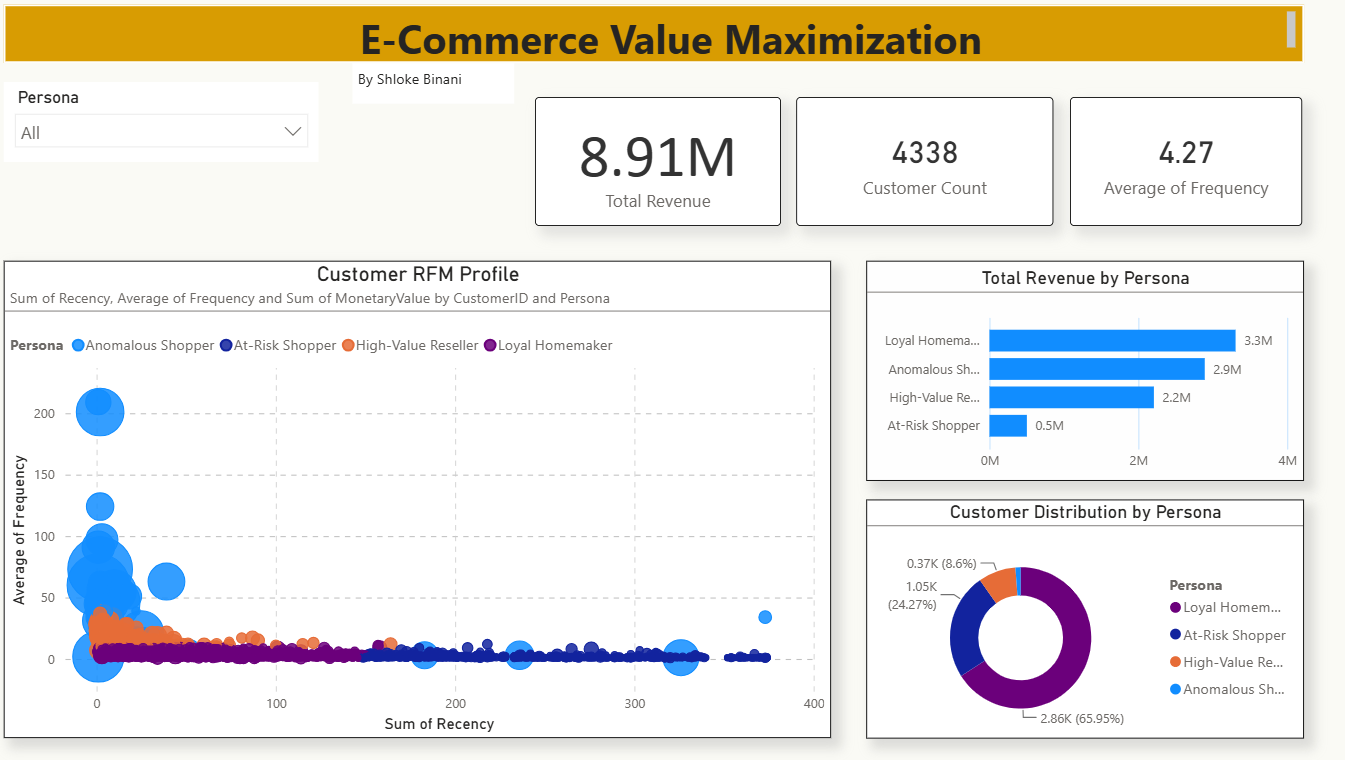

The page's visual inventory and layout, read from the dashboard file:
{"tool":"powerbi","page":{"name":"Page 1","canvas":[1280,720],"ordinal":0},"visuals":[{"type":"card","fields":{"Values":["Key Measures.Total Revenue"]},"box":[525.4,102.4,229.1,119.8],"z":0},{"type":"card","fields":{"Values":["Key Measures.Customer Count"]},"box":[769,102.4,239.5,119.8],"z":1000},{"type":"card","fields":{"Values":["Avg(customer_segments_final.Frequency)"]},"box":[1023.1,102.4,216.3,119.8],"z":2000},{"type":"barChart","title":"Total Revenue by Persona","fields":{"Category":["customer_segments_final.Persona"],"Y":["Sum(customer_segments_final.MonetaryValue)"]},"box":[833.7,254.7,407,204.7],"z":3000},{"type":"donutChart","title":"Customer Distribution by Persona","fields":{"Category":["customer_segments_final.Persona"],"Y":["Count(customer_segments_final.CustomerID)"]},"box":[833.7,476.7,407,222.1],"z":4000},{"type":"scatterChart","title":"Customer RFM Profile","fields":{"Series":["customer_segments_final.Persona"],"Size":["Sum(customer_segments_final.MonetaryValue)"],"Category":["customer_segments_final.CustomerID"],"X":["Sum(customer_segments_final.Recency)"],"Y":["Avg(customer_segments_final.Frequency)"]},"box":[31.4,254.7,769.8,444.2],"z":5000},{"type":"slicer","fields":{"Values":["customer_segments_final.Persona"]},"box":[31.4,88.4,293,74.4],"z":6000},{"type":"textbox","box":[31.4,16.3,1209.3,54.7],"z":7000},{"type":"textbox","box":[355.8,70.9,150,37.2],"z":7001}]}

Visuals, with their boxes in screenshot pixels (x1, y1, x2, y2), scaled from the page's 1280x720 canvas onto the 1345x760 screenshot:
card - Key Measures.Total Revenue: locate(552, 108, 793, 235)
card - Key Measures.Customer Count: locate(808, 108, 1060, 235)
card - Avg(customer_segments_final.Frequency): locate(1075, 108, 1302, 235)
"Total Revenue by Persona" barChart: locate(876, 269, 1304, 485)
"Customer Distribution by Persona" donutChart: locate(876, 503, 1304, 738)
"Customer RFM Profile" scatterChart: locate(33, 269, 842, 738)
slicer - customer_segments_final.Persona: locate(33, 93, 341, 172)
textbox: locate(33, 17, 1304, 75)
textbox: locate(374, 75, 531, 114)
